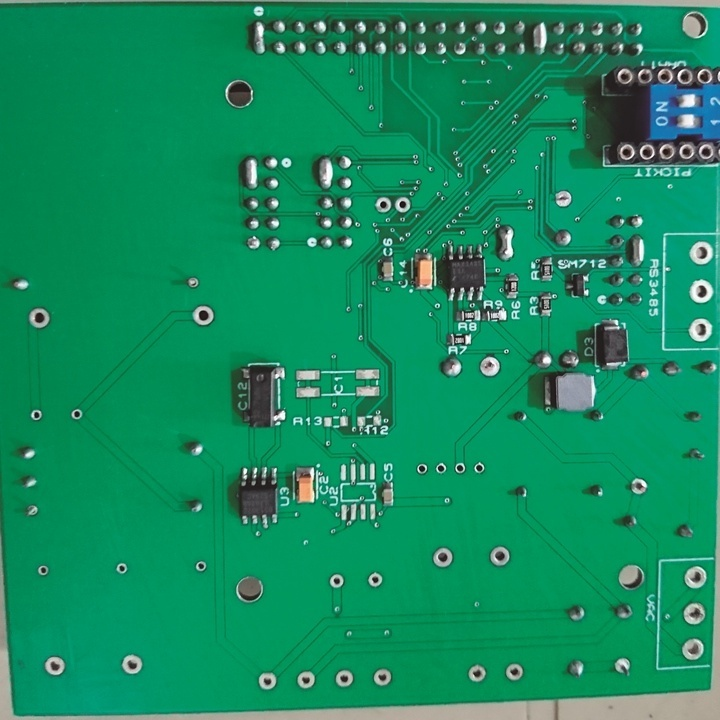F: (683, 314, 715, 346), (685, 275, 716, 306), (687, 236, 716, 269), (680, 598, 709, 629), (24, 303, 53, 333), (187, 301, 216, 331), (681, 563, 710, 592), (478, 353, 506, 382), (679, 635, 707, 664), (117, 652, 145, 678), (487, 544, 513, 571), (429, 545, 455, 571), (501, 660, 527, 685), (41, 653, 67, 678), (371, 664, 395, 690), (255, 669, 279, 695), (464, 661, 488, 685), (612, 655, 635, 680), (553, 187, 576, 211), (630, 473, 650, 500), (296, 668, 317, 693), (242, 232, 263, 255), (587, 15, 607, 39), (450, 36, 470, 60), (410, 37, 430, 60), (333, 666, 353, 689), (373, 193, 392, 217), (327, 570, 347, 592), (364, 570, 383, 593), (491, 16, 510, 38), (393, 195, 412, 215), (21, 502, 40, 520), (470, 460, 486, 480), (415, 460, 430, 478), (29, 406, 44, 423), (433, 461, 448, 478), (36, 562, 51, 578), (184, 274, 200, 289), (115, 560, 129, 577), (452, 460, 466, 477), (193, 559, 207, 574), (70, 408, 84, 423)
P: (495, 220, 518, 265), (529, 17, 550, 62), (313, 151, 336, 192), (239, 152, 262, 192), (627, 231, 647, 269), (250, 17, 267, 56)
